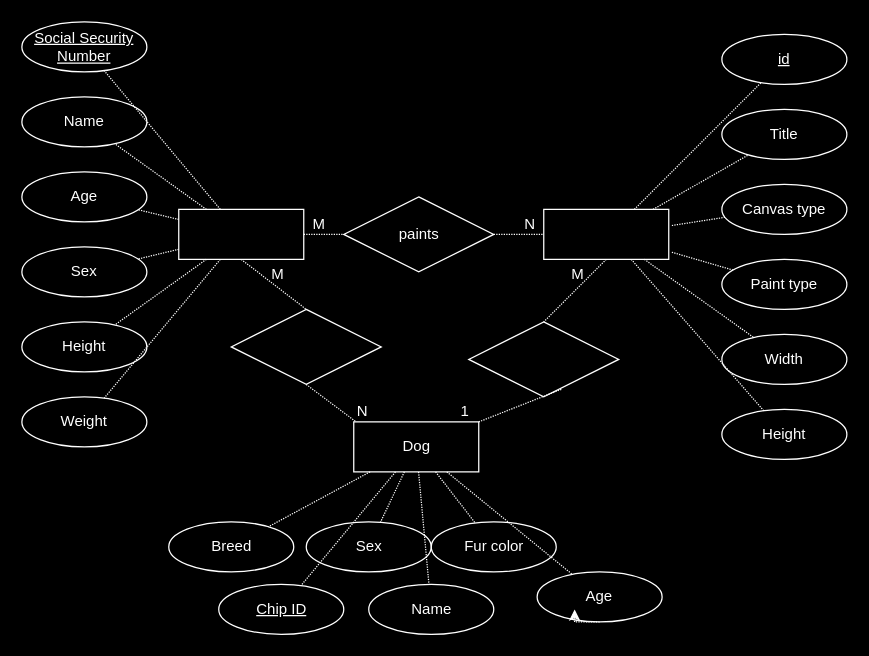
Image size: 869x656. Some labels were removed from this diagram. Each missing label, with the centre of its shape:
owns: point 305,346
Painter: point 241,233
Painting: point 605,233
tears up: point 543,359
